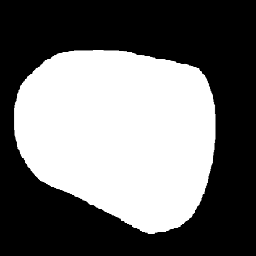mass: (19, 45, 204, 238)
